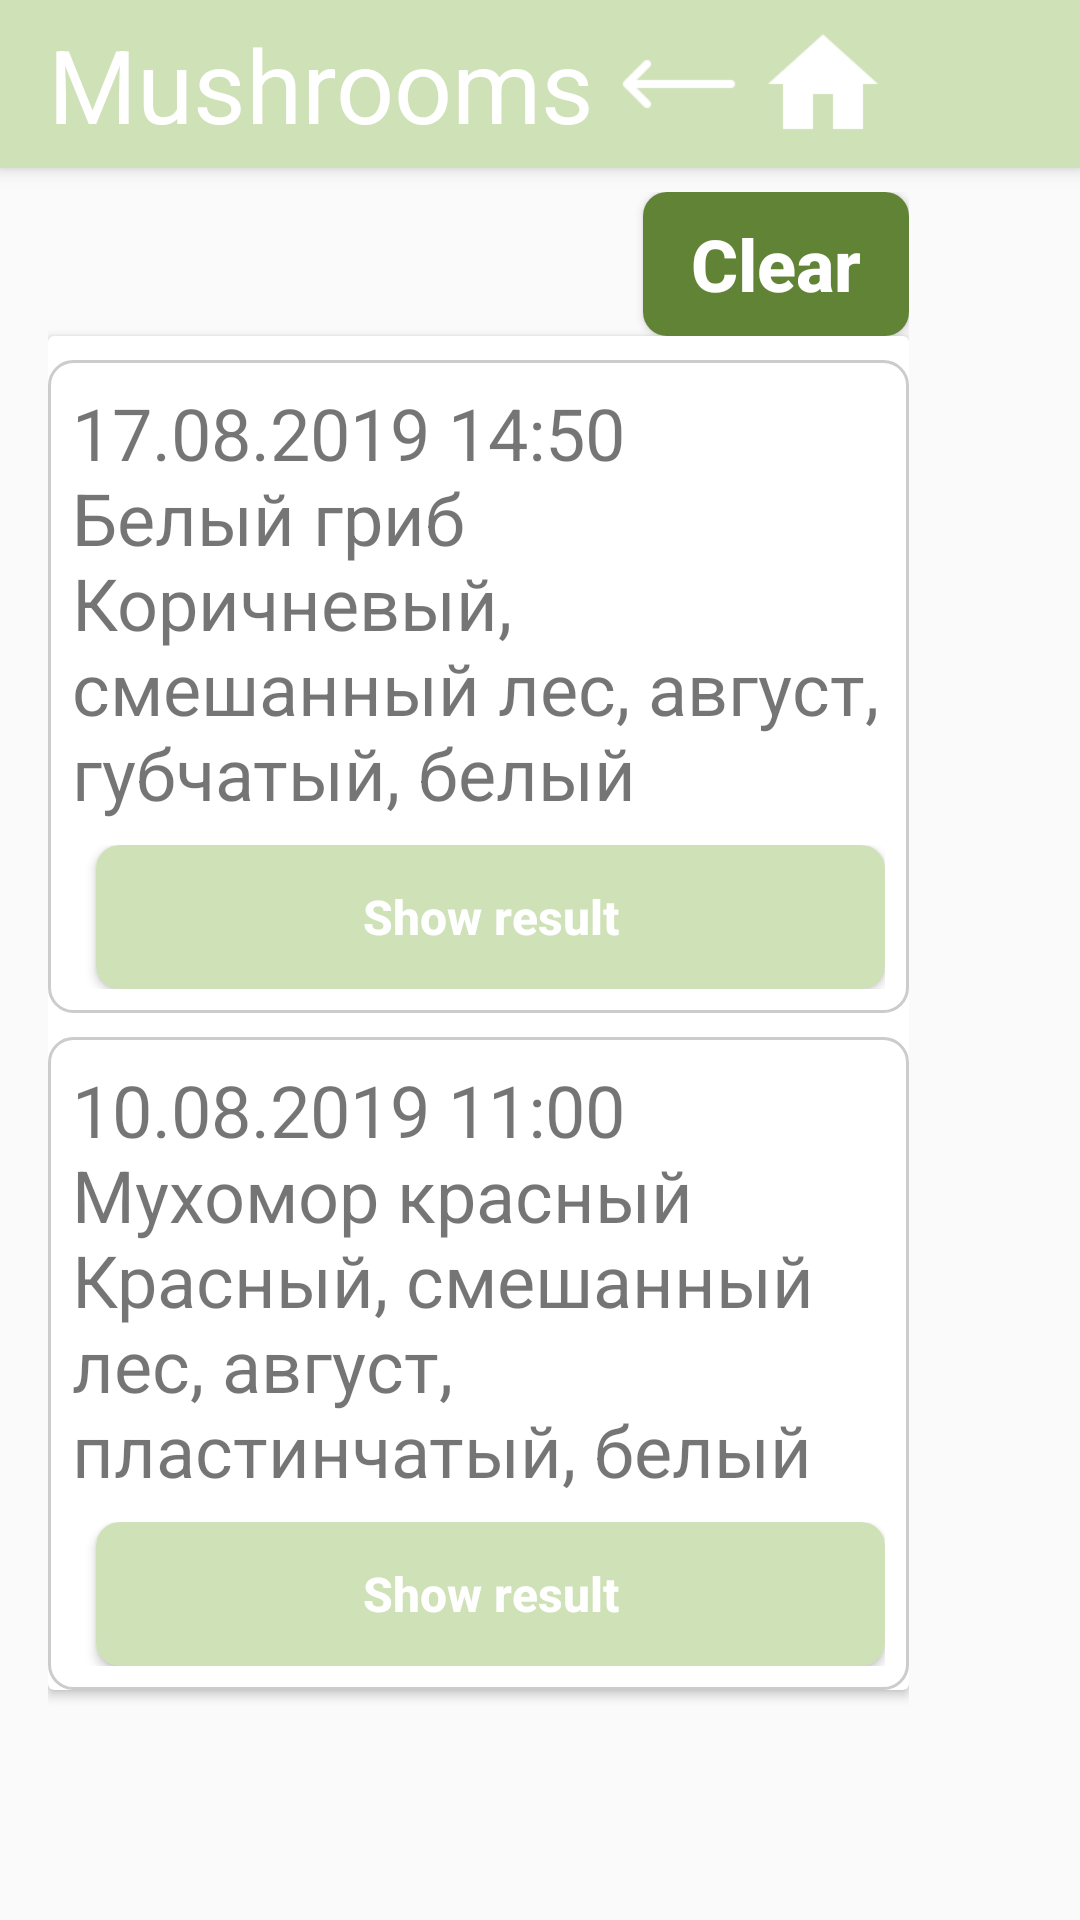

Screen size 1080px x 1920px. Icon name, then its center in pixels as [x,y]:
home: [823,82]
long arrow left: [679,84]
